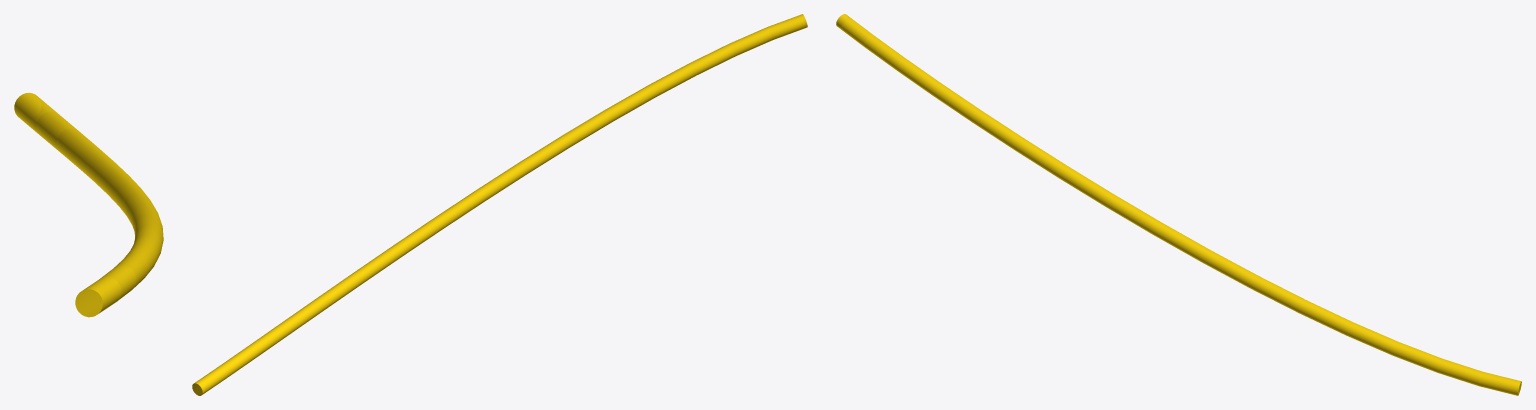
Rendered from Event_421115418_track_113.fbx.
The picture shows the model from 3 angles, left to right: view 1: azimuth 90°, elevation 25°; view 2: azimuth 210°, elevation 25°; view 3: azimuth 330°, elevation 25°; orthographic projection. The views are drawn at different scales.
Parts seen in each view (by area): view 1: Model; view 2: Model; view 3: Model.
Part boxes in pixels (bbox=[...]): Model: bbox=[14, 92, 163, 317]; Model: bbox=[192, 14, 807, 395]; Model: bbox=[836, 14, 1521, 395].
Size of the model in its own units: 2.03 by 0.6749 by 0.2092.
